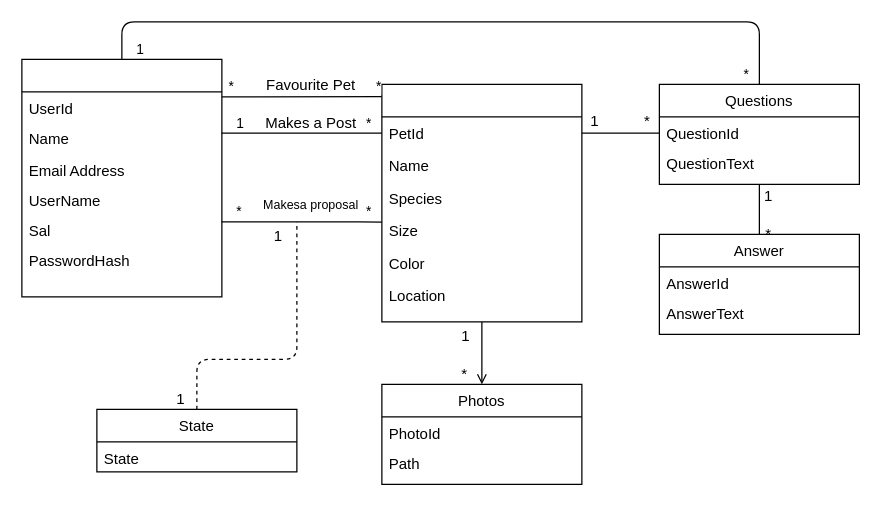
This 881x506 diagram has some shape labels left out. Here are the shapes that lost their labels. From the top down, the box of each, then its label:
(21, 58, 222, 297): Users
(381, 83, 582, 322): Pets
